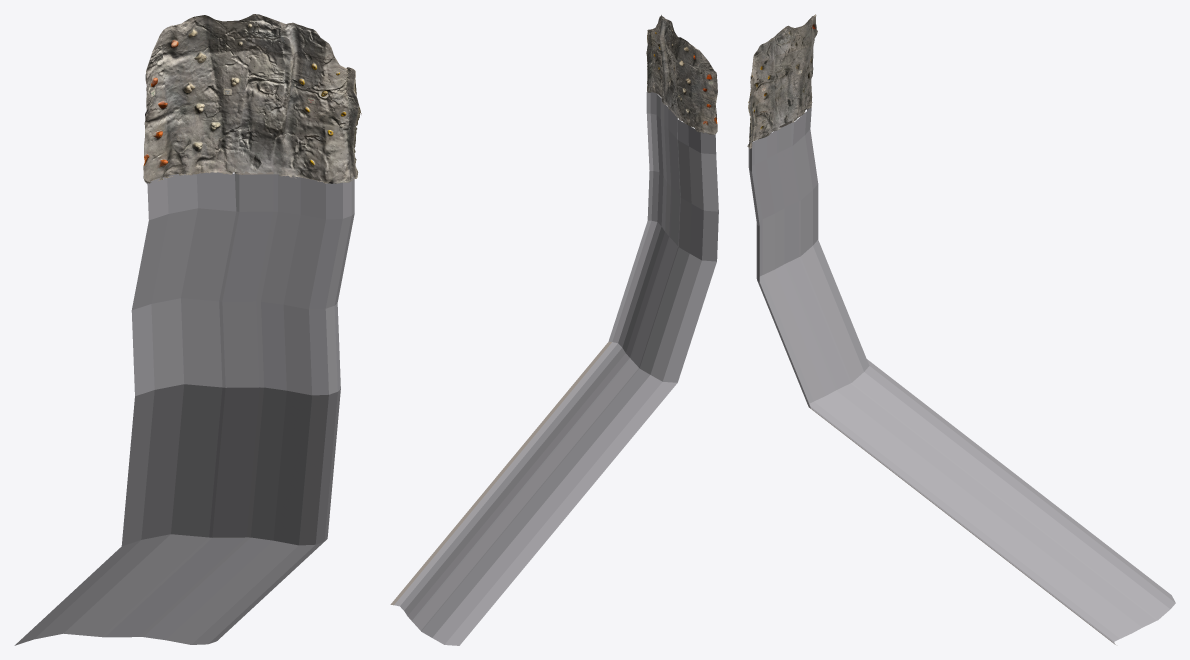
File: TelefonplanRockWall.fbx
3 renders of one model, left to right at view 1: azimuth 30°, elevation 25°; view 2: azimuth 150°, elevation 25°; view 3: azimuth 270°, elevation 25°, orthographic. The views are drawn at different scales.
Visible parts, largest first — view 1: Mesh_0; view 2: Mesh_0; view 3: Mesh_0.
Boxes of the visible parts, x1=… form: Mesh_0: x1=14, y1=14, x2=361, y2=645; Mesh_0: x1=390, y1=14, x2=718, y2=645; Mesh_0: x1=747, y1=14, x2=1175, y2=644.
Bounding box in the file's own units: 540 × 1371 × 966.
2 materials, 1 textured.
